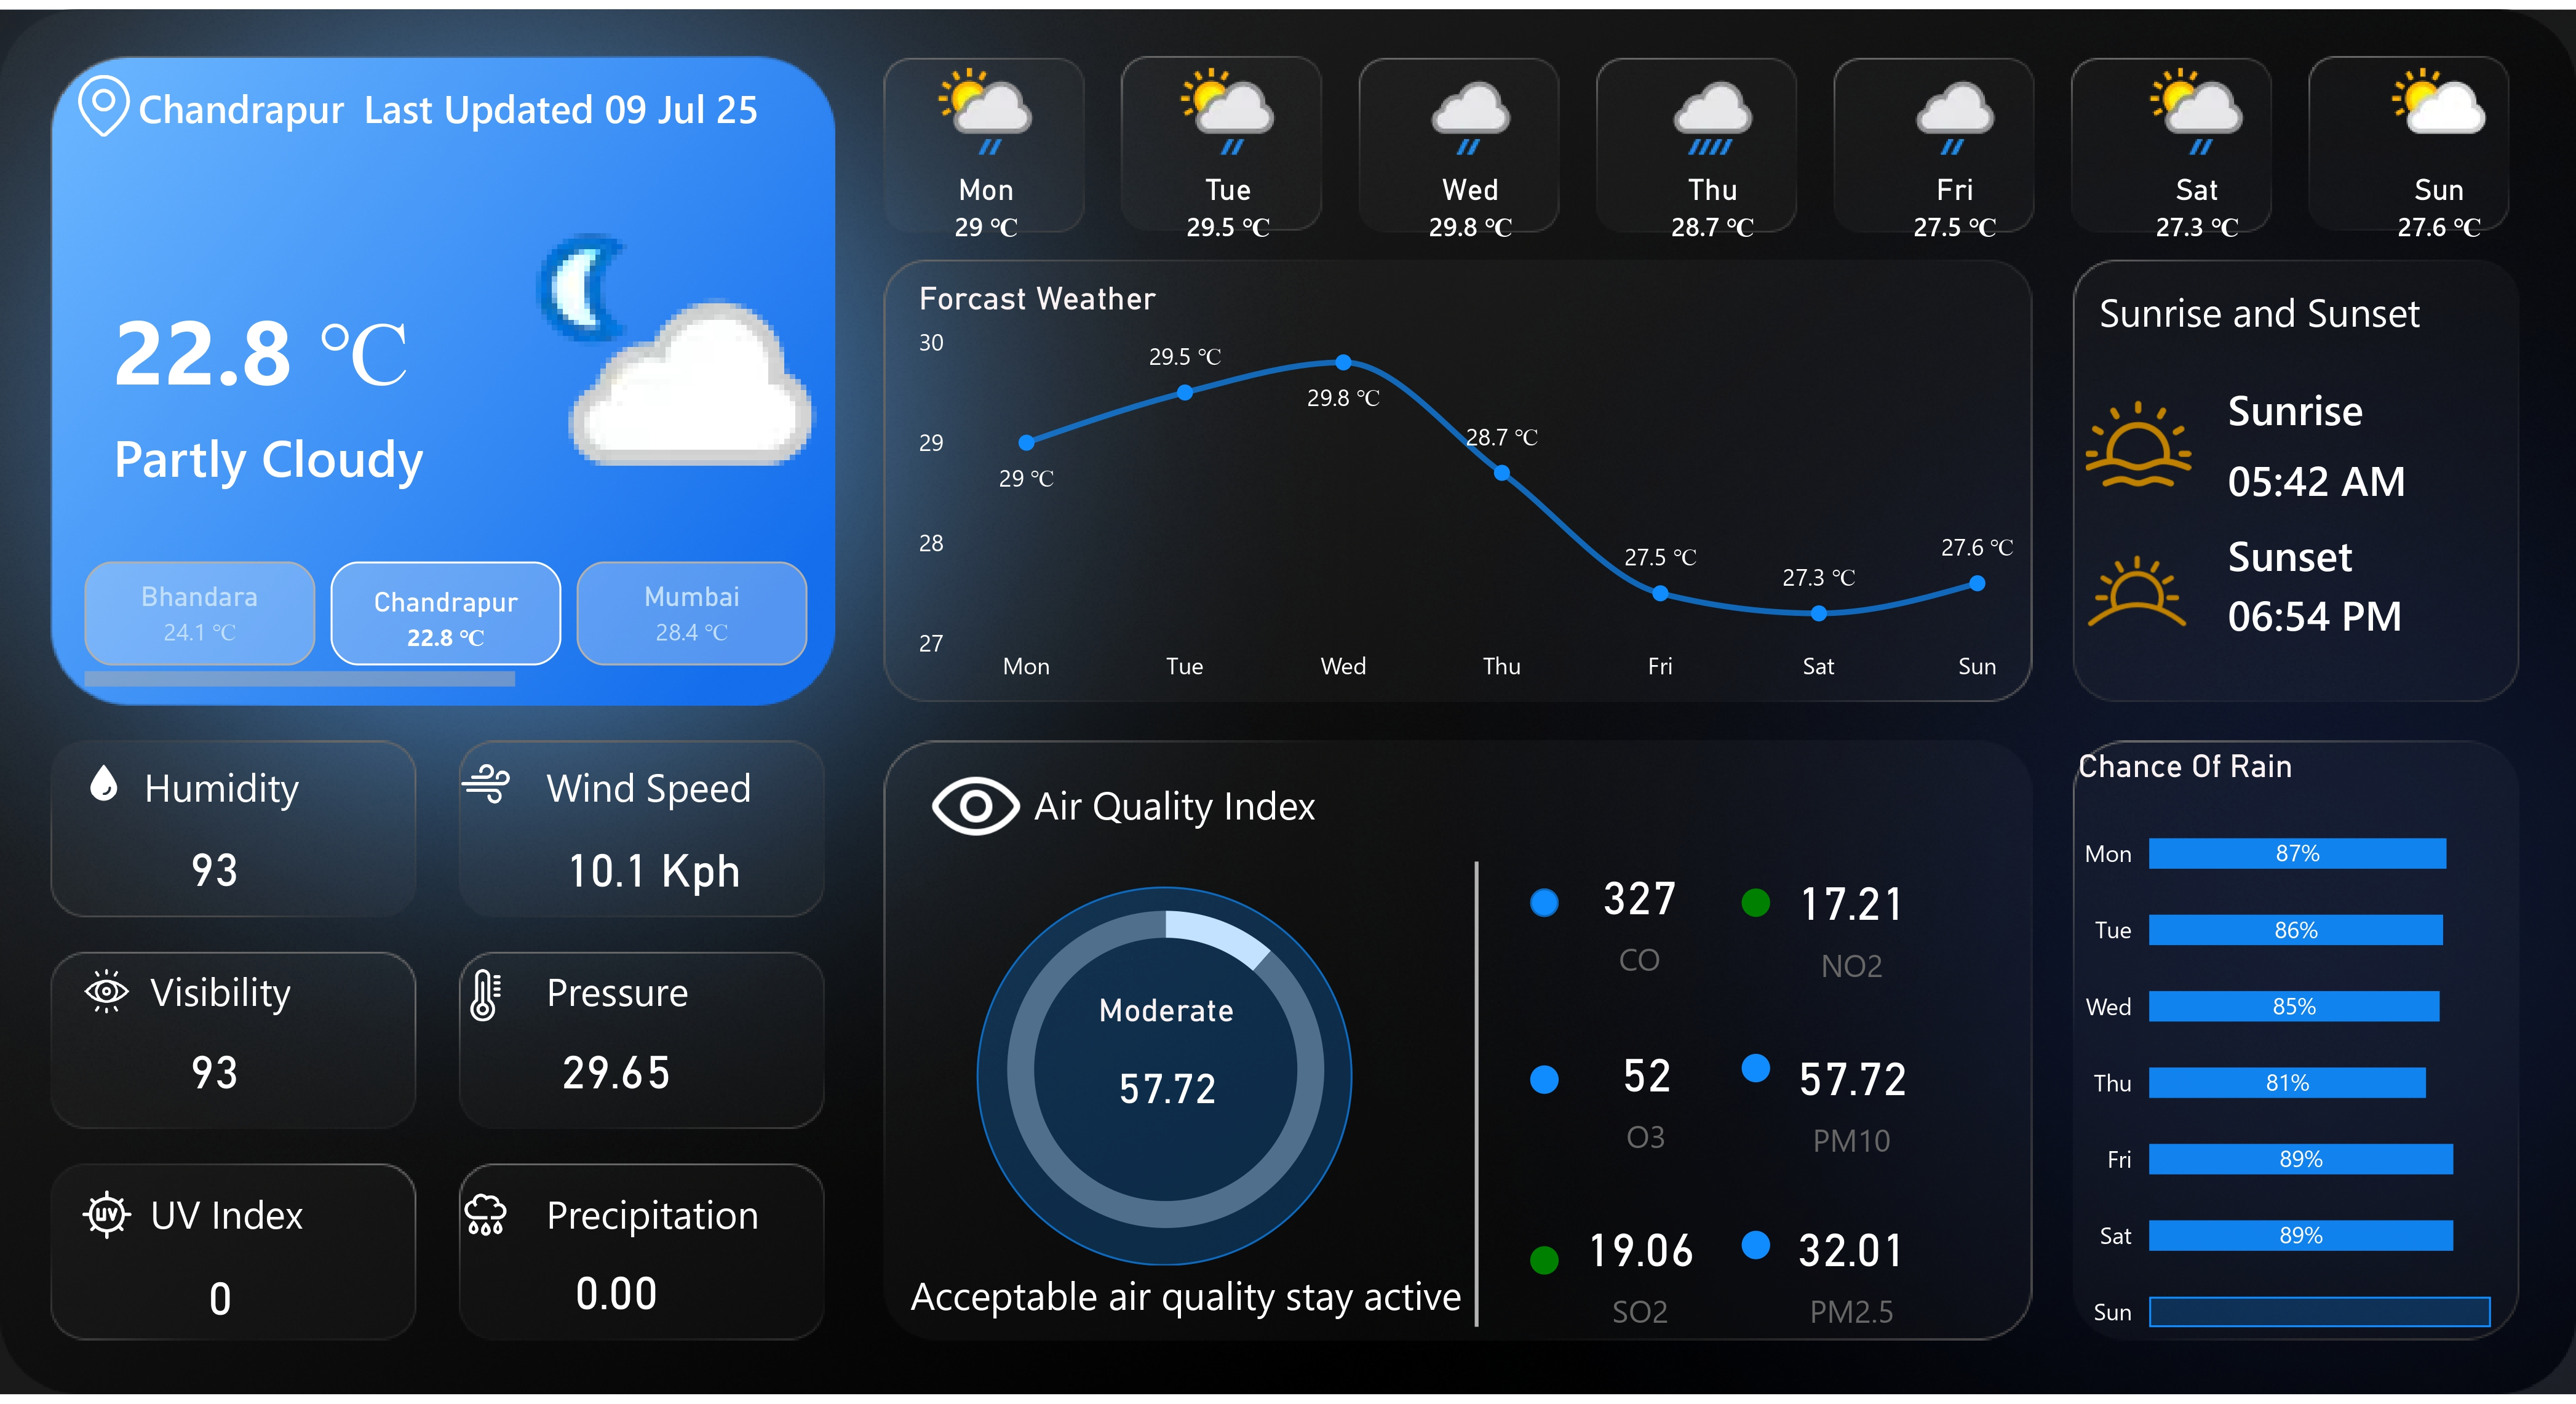

The dashboard page shown, as its layout file describes it:
{"tool":"powerbi","page":{"name":"Page 1","canvas":[1340,720],"ordinal":0},"visuals":[{"type":"donutChart","fields":{"Y":["Sum(Current.current.air_quality.pm10)","Table.Left_value_PM10"]},"box":[458.1,442.7,296.8,216.2],"z":0},{"type":"advancedSlicerVisual","fields":{"Values":["Location.location.name"]},"box":[38.9,282.4,387.6,77.8],"z":1000},{"type":"shape","box":[58.9,125.7,175.1,100.3],"z":2000},{"type":"shape","box":[58.9,200.5,257.8,62.1],"z":3000},{"type":"shape","box":[72,33.1,223.2,34.6],"z":4000},{"type":"image","box":[24.5,28.8,60.5,41.8],"z":5000},{"type":"shape","box":[188.6,33.1,223.2,34.6],"z":6000},{"type":"cardVisual","fields":{"Data":["Min(Current.current.condition.icon)"]},"box":[241.9,87.5,206.9,176.7],"z":7000},{"type":"image","box":[233.3,607.7,38.9,37.4],"z":8000},{"type":"image","box":[233.3,493.9,38.9,37.4],"z":9000},{"type":"image","box":[36,607.7,38.9,37.4],"z":10000},{"type":"image","box":[461.5,381.9,92.3,63.7],"z":11000},{"type":"image","box":[233.3,384.5,38.9,37.4],"z":12000},{"type":"image","box":[36,493.9,39,33],"z":13000},{"type":"image","box":[34.6,387.4,37.4,30.2],"z":14000},{"type":"shape","box":[74.9,385.9,112.3,34.6],"z":15000},{"type":"shape","box":[283.7,385.9,112.3,34.6],"z":16000},{"type":"shape","box":[77.8,492.5,112.3,34.6],"z":17000},{"type":"shape","box":[283.7,492.5,112.3,34.6],"z":18000},{"type":"shape","box":[77.8,607.7,112.3,34.6],"z":19000},{"type":"shape","box":[283.7,607.7,112.3,34.6],"z":20000},{"type":"card","fields":{"Values":["Sum(Current.current.humidity)"]},"box":[74.9,421.9,73.4,49],"z":21000},{"type":"card","fields":{"Values":["Table.wind speed"]},"box":[284.4,422.6,111.8,47.7],"z":22000},{"type":"card","fields":{"Values":["Sum(Current.current.humidity)"]},"box":[74.9,527,73.4,49],"z":23000},{"type":"card","fields":{"Values":["Sum(Current.current.pressure_in)"]},"box":[283.7,527,73.4,49],"z":24000},{"type":"card","fields":{"Values":["Sum(Current.current.uv)"]},"box":[77.8,645.1,73.4,49],"z":25000},{"type":"card","fields":{"Values":["Sum(Current.current.precip_mm)"]},"box":[283.7,642.2,73.4,49],"z":26000},{"type":"advancedSlicerVisual","fields":{"Values":["Forcast_Day.week_Day"]},"box":[449,16.2,890,124.4],"z":27000},{"type":"lineChart","title":"Forcast Weather","fields":{"Category":["Forcast_Day.week_Day"],"Y":["Avg(Forcast_Day.forecast.forecastday.day.avgtemp_c)"]},"box":[472.7,140,593.6,219.6],"z":28000},{"type":"shape","box":[1091.7,140,210.1,33.4],"z":29000},{"type":"shape","box":[1158.6,226,133.7,36.6],"z":30000},{"type":"shape","box":[1158.6,292.8,133.7,43],"z":31000},{"type":"shape","box":[1158.6,189.4,133.7,36.6],"z":32000},{"type":"shape","box":[1158.6,262.6,133.7,39.8],"z":33000},{"type":"image","box":[1066.3,262.6,92.3,78],"z":34000},{"type":"image","box":[1066.3,192.6,92.3,65.2],"z":35000},{"type":"barChart","title":"Chance Of Rain","fields":{"Category":["Forcast_Day.week_Day"],"Y":["Table.rain","Table.left_value_rain"]},"box":[1075.8,382.6,224.8,324.3],"z":36000},{"type":"shape","box":[537.9,396.3,210.1,33.4],"z":37000},{"type":"shape","box":[795.8,457.1,14.8,14.8],"z":38000},{"type":"card","fields":{"Values":["Sum(Current.current.air_quality.co)"]},"box":[810.6,434.1,83.9,75.6],"z":39000},{"type":"card","fields":{"Values":["Sum(Current.current.air_quality.no2)"]},"box":[914.2,437.3,98.7,75.6],"z":40000},{"type":"card","fields":{"Values":["Sum(Current.current.air_quality.o3)"]},"box":[807.3,526.1,98.7,75.6],"z":41000},{"type":"card","fields":{"Values":["Sum(Current.current.air_quality.pm10)"]},"box":[914.2,527.8,98.7,75.6],"z":42000},{"type":"card","fields":{"Values":["Sum(Current.current.air_quality.so2)"]},"box":[804,616.6,98.7,75.6],"z":43000},{"type":"card","fields":{"Values":["Sum(Current.current.air_quality.pm2_5)"]},"box":[914.2,616.6,98.7,75.6],"z":44000},{"type":"shape","box":[795.8,549.2,14.8,14.8],"z":45000},{"type":"shape","box":[795.8,642.9,14.8,14.8],"z":46000},{"type":"shape","box":[905.9,457.1,14.8,14.8],"z":47000},{"type":"shape","box":[905.9,542.6,14.8,14.8],"z":48000},{"type":"shape","box":[905.9,634.7,14.8,14.8],"z":49000},{"type":"shape","box":[507.9,456.4,195.6,197.3],"z":50000},{"type":"card","fields":{"Values":["Sum(Current.current.air_quality.pm10)"]},"box":[557.6,509.6,97.8,82.4],"z":51000},{"type":"shape","box":[617.7,442.7,300.3,241.9],"z":51001},{"type":"shape","box":[471.8,652,290,30.9],"z":51002}]}

Visuals, with their boxes in screenshot pixels (x1, y1, x2, y2), scaled from the page's 1340x720 canvas onto the 2576x1404 screenshot:
donutChart - Sum(Current.current.air_quality.pm10) x Table.Left_value_PM10: x1=881, y1=863, x2=1451, y2=1285
advancedSlicerVisual - Location.location.name: x1=75, y1=551, x2=820, y2=703
shape: x1=113, y1=245, x2=450, y2=441
shape: x1=113, y1=391, x2=609, y2=512
shape: x1=138, y1=65, x2=568, y2=132
image: x1=47, y1=56, x2=164, y2=138
shape: x1=362, y1=65, x2=792, y2=132
cardVisual - Min(Current.current.condition.icon): x1=465, y1=170, x2=863, y2=515
image: x1=448, y1=1185, x2=523, y2=1258
image: x1=448, y1=963, x2=523, y2=1036
image: x1=70, y1=1185, x2=144, y2=1258
image: x1=887, y1=744, x2=1065, y2=869
image: x1=448, y1=750, x2=523, y2=823
image: x1=70, y1=963, x2=144, y2=1027
image: x1=66, y1=756, x2=138, y2=815
shape: x1=144, y1=752, x2=360, y2=820
shape: x1=546, y1=752, x2=761, y2=820
shape: x1=149, y1=960, x2=365, y2=1028
shape: x1=546, y1=960, x2=761, y2=1028
shape: x1=149, y1=1185, x2=365, y2=1253
shape: x1=546, y1=1185, x2=761, y2=1253
card - Sum(Current.current.humidity): x1=144, y1=823, x2=285, y2=918
card - Table.wind speed: x1=547, y1=824, x2=761, y2=917
card - Sum(Current.current.humidity): x1=144, y1=1027, x2=285, y2=1123
card - Sum(Current.current.pressure_in): x1=546, y1=1027, x2=686, y2=1123
card - Sum(Current.current.uv): x1=149, y1=1258, x2=291, y2=1354
card - Sum(Current.current.precip_mm): x1=546, y1=1252, x2=686, y2=1348
advancedSlicerVisual - Forcast_Day.week_Day: x1=863, y1=31, x2=2574, y2=274
"Forcast Weather" lineChart: x1=908, y1=273, x2=2050, y2=701
shape: x1=2099, y1=273, x2=2503, y2=338
shape: x1=2227, y1=441, x2=2484, y2=512
shape: x1=2227, y1=571, x2=2484, y2=655
shape: x1=2227, y1=369, x2=2484, y2=441
shape: x1=2227, y1=512, x2=2484, y2=589
image: x1=2050, y1=512, x2=2227, y2=664
image: x1=2050, y1=375, x2=2227, y2=503
"Chance Of Rain" barChart: x1=2068, y1=746, x2=2500, y2=1378
shape: x1=1034, y1=773, x2=1438, y2=838
shape: x1=1530, y1=891, x2=1558, y2=920
card - Sum(Current.current.air_quality.co): x1=1558, y1=847, x2=1720, y2=994
card - Sum(Current.current.air_quality.no2): x1=1757, y1=853, x2=1947, y2=1000
card - Sum(Current.current.air_quality.o3): x1=1552, y1=1026, x2=1742, y2=1173
card - Sum(Current.current.air_quality.pm10): x1=1757, y1=1029, x2=1947, y2=1176
card - Sum(Current.current.air_quality.so2): x1=1546, y1=1202, x2=1735, y2=1350
card - Sum(Current.current.air_quality.pm2_5): x1=1757, y1=1202, x2=1947, y2=1350
shape: x1=1530, y1=1071, x2=1558, y2=1100
shape: x1=1530, y1=1254, x2=1558, y2=1283
shape: x1=1741, y1=891, x2=1770, y2=920
shape: x1=1741, y1=1058, x2=1770, y2=1087
shape: x1=1741, y1=1238, x2=1770, y2=1267
shape: x1=976, y1=890, x2=1353, y2=1275
card - Sum(Current.current.air_quality.pm10): x1=1072, y1=994, x2=1260, y2=1154
shape: x1=1188, y1=863, x2=1765, y2=1335
shape: x1=907, y1=1271, x2=1465, y2=1331
